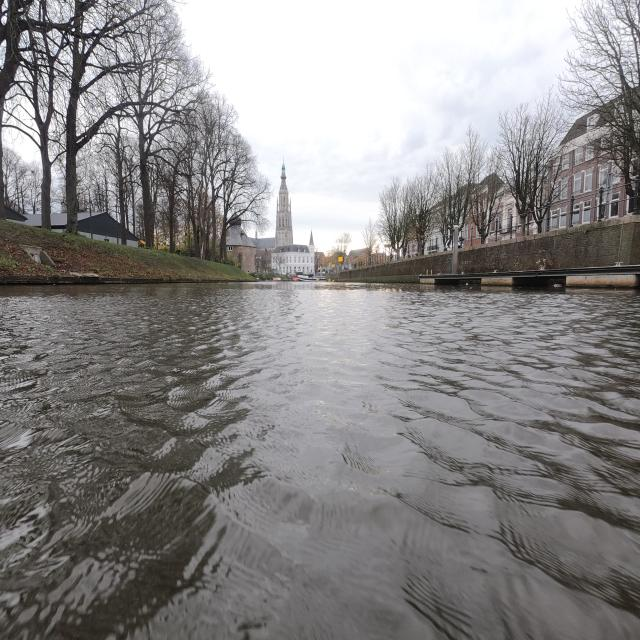dock: (419, 265, 640, 287), (0, 272, 188, 286)
grass: (0, 220, 254, 284)
sky: (176, 4, 576, 246)
tree: (64, 0, 149, 232), (124, 0, 198, 246), (560, 0, 640, 182), (180, 93, 235, 260), (499, 93, 561, 233), (23, 28, 64, 230), (436, 128, 486, 246), (407, 164, 436, 255), (378, 177, 408, 253), (114, 117, 127, 245)
wall: (458, 215, 640, 274), (338, 250, 452, 281)
water: (10, 288, 638, 632)
